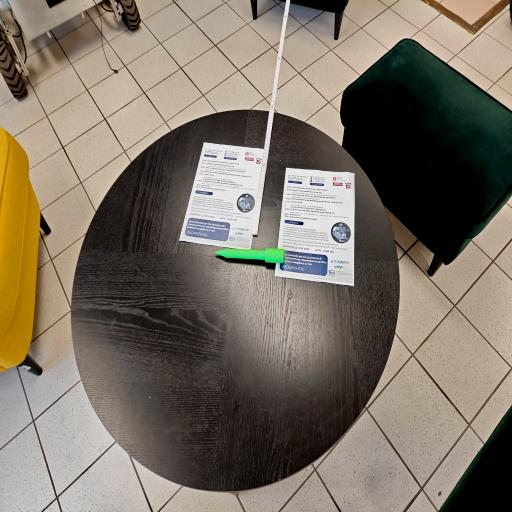Probe-Detection: (215, 248, 284, 263)
